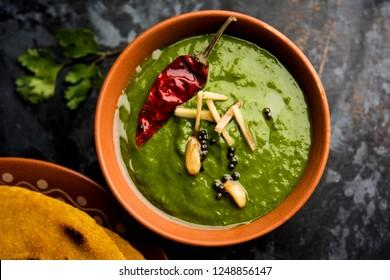saag: (119, 36, 308, 226)
